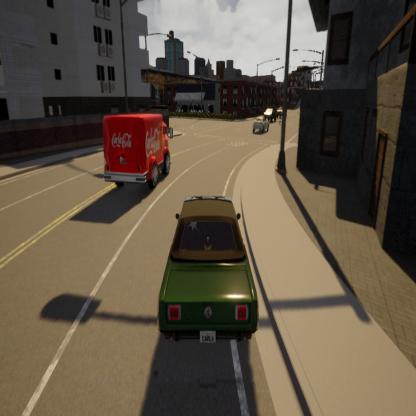Cars: (159, 196, 258, 346), (102, 115, 172, 189), (253, 115, 270, 131), (264, 108, 275, 123), (277, 107, 287, 120)
